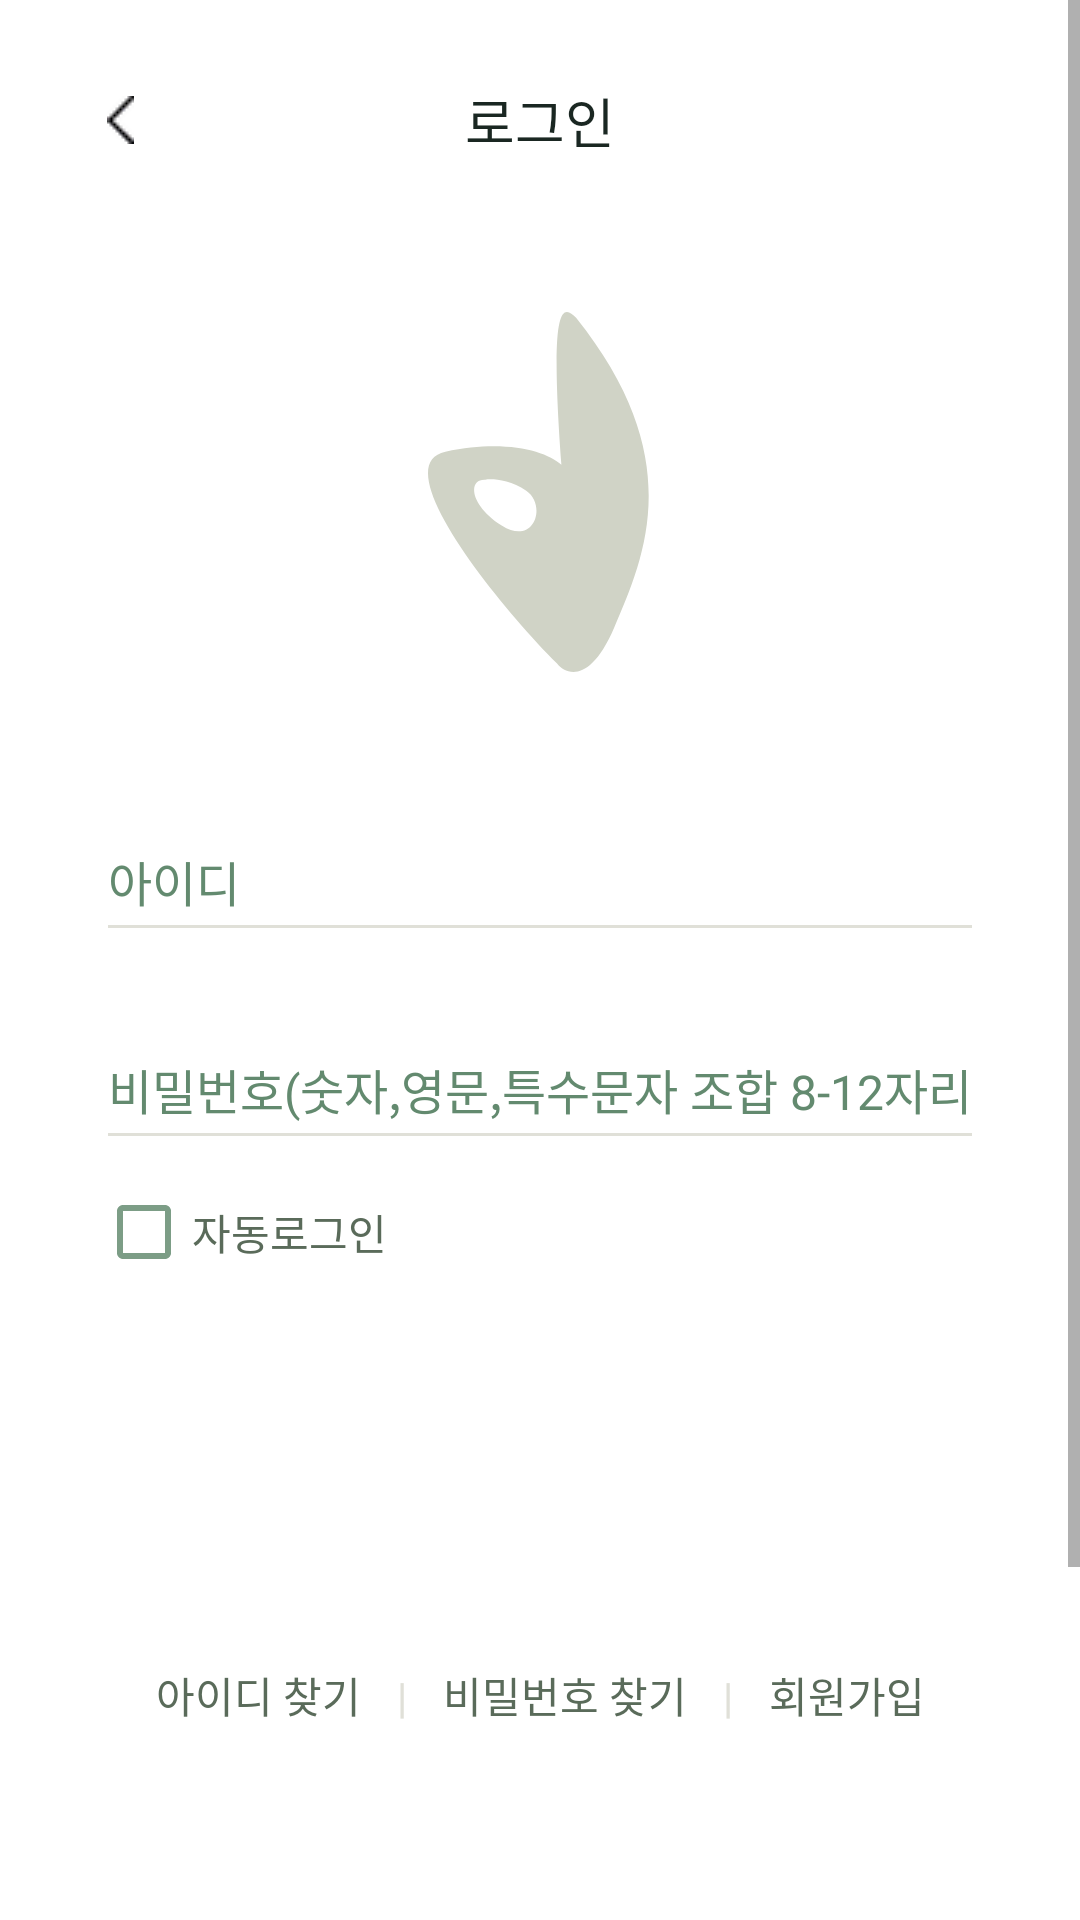

Icons on this 1080px×1920px Android screen, each with its box as BBox(x1, y1, x2, y2):
back: BBox(107, 96, 134, 144)
